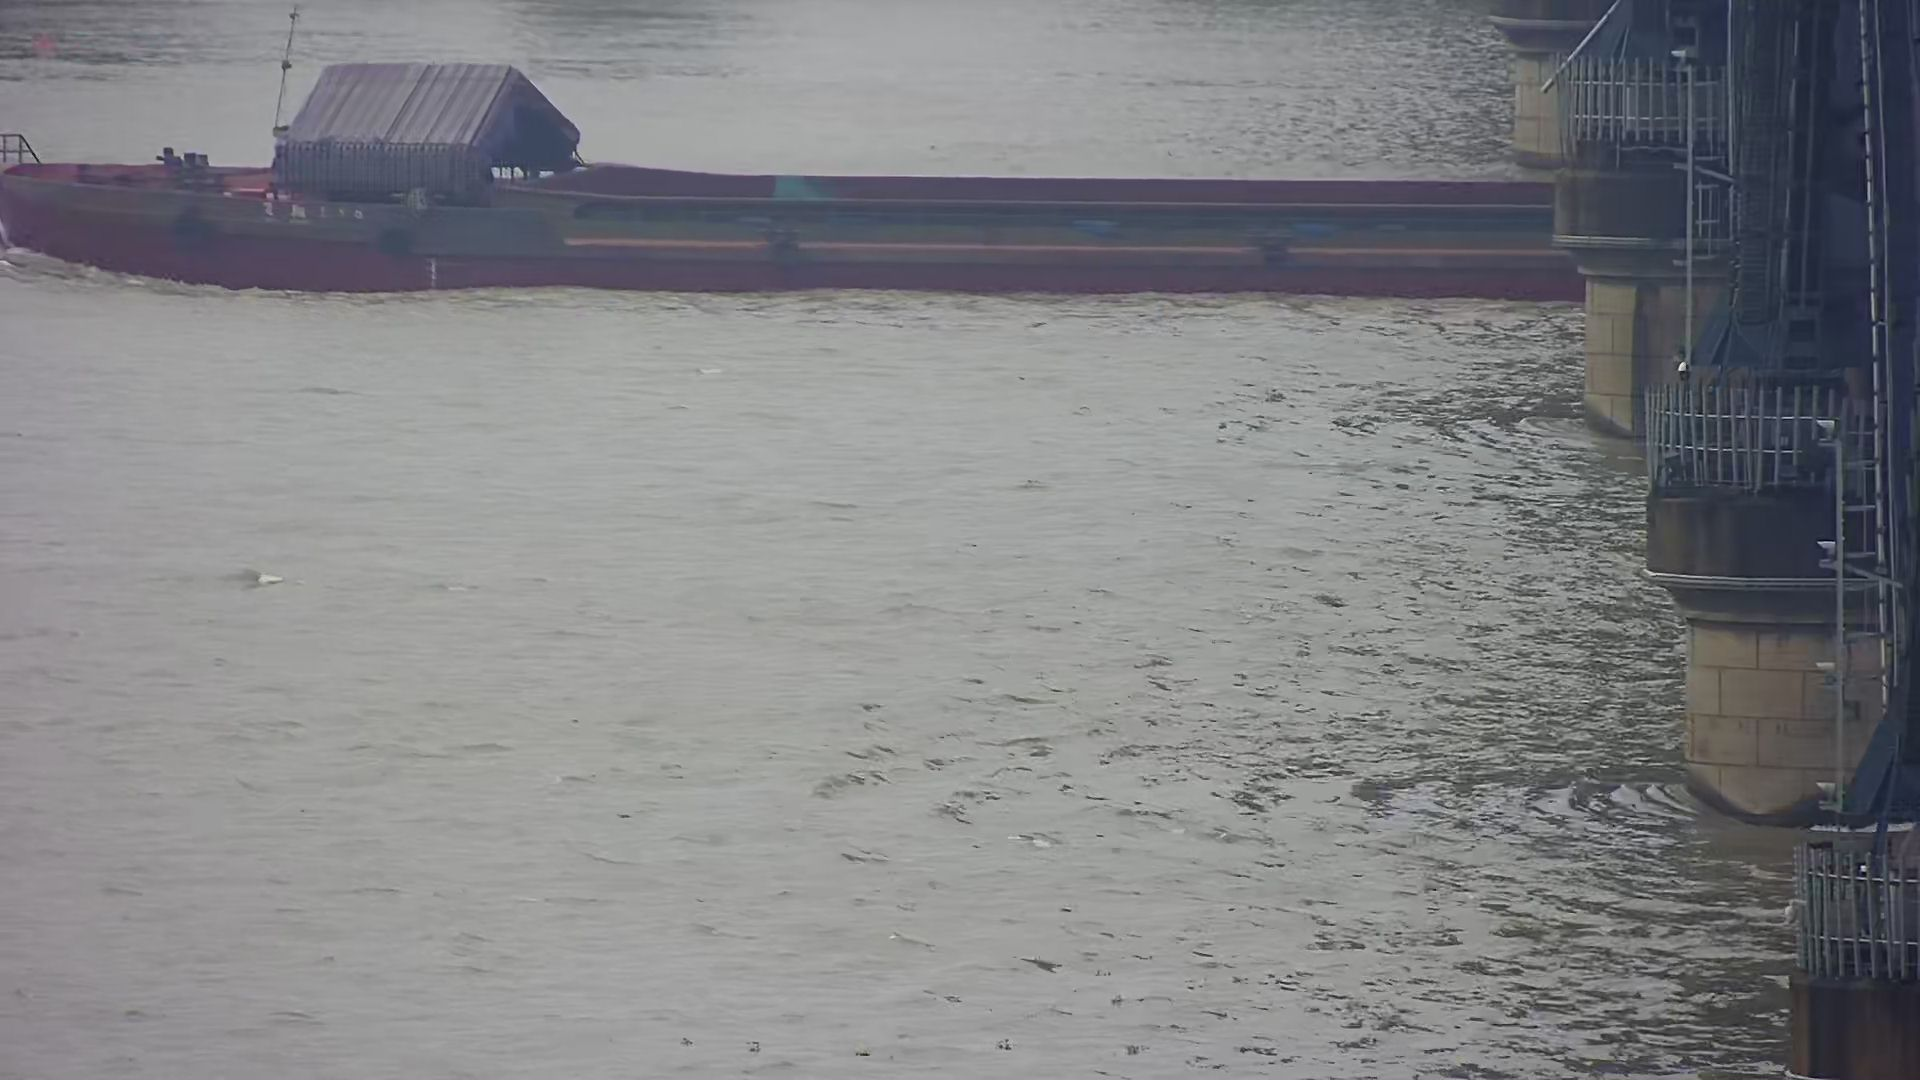bridge: (1478, 5, 1920, 1080)
ship: (7, 5, 1582, 314)
